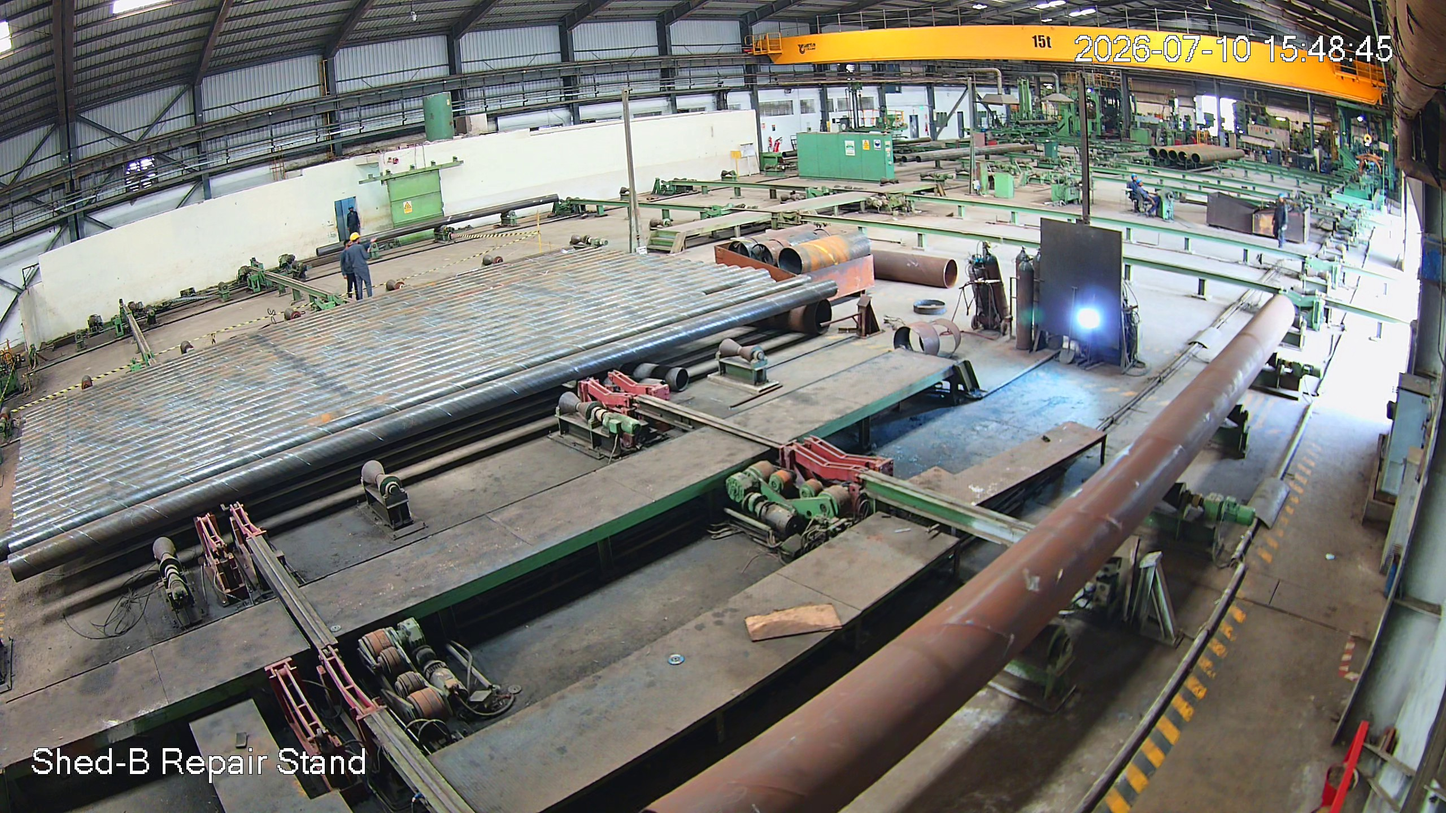Helmet: (347, 231, 368, 257)
Person: (346, 232, 377, 304)
